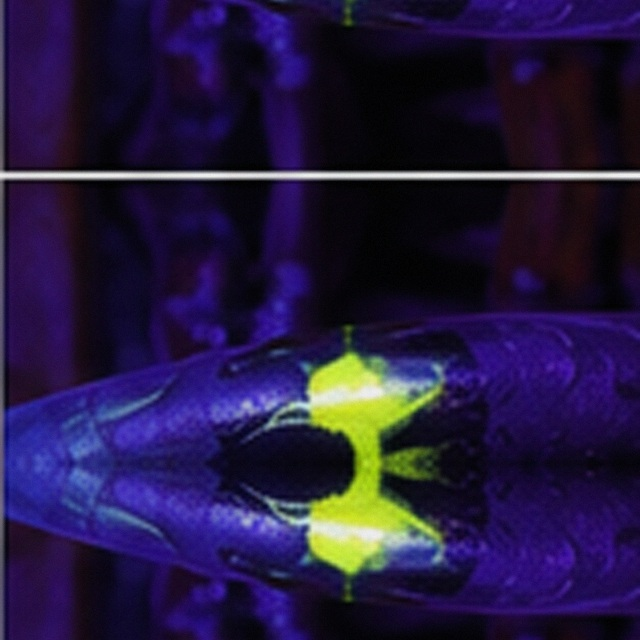hydraulic_oil_leak: (309, 387, 441, 540), (306, 535, 386, 577), (306, 349, 385, 390), (346, 595, 350, 600), (346, 337, 349, 342), (346, 584, 349, 588), (346, 327, 350, 330)
